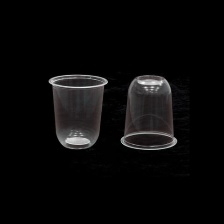glass: (116, 66, 185, 153), (44, 72, 112, 151)
